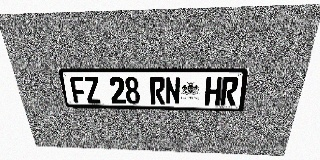2: (109, 77, 126, 104)
8: (124, 77, 140, 104)
F: (69, 77, 87, 103)
H: (204, 77, 222, 105)
N: (165, 77, 180, 105)
R: (220, 77, 239, 106), (150, 77, 165, 104)
Z: (83, 77, 101, 103)
